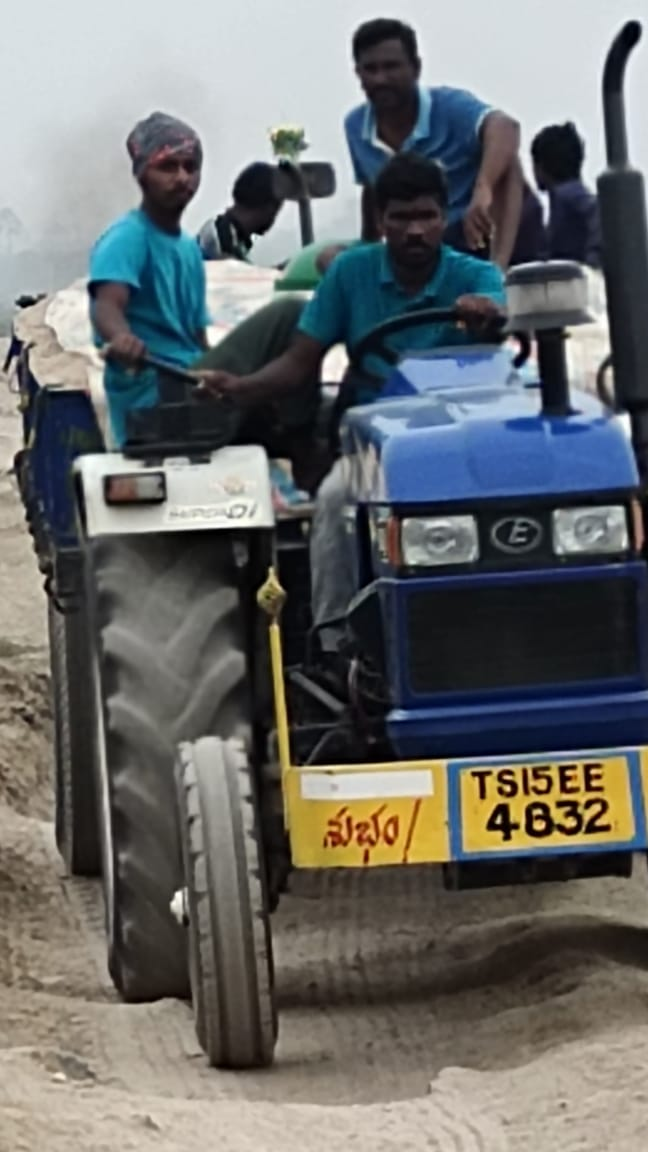license_plate: (449, 762, 644, 844)
